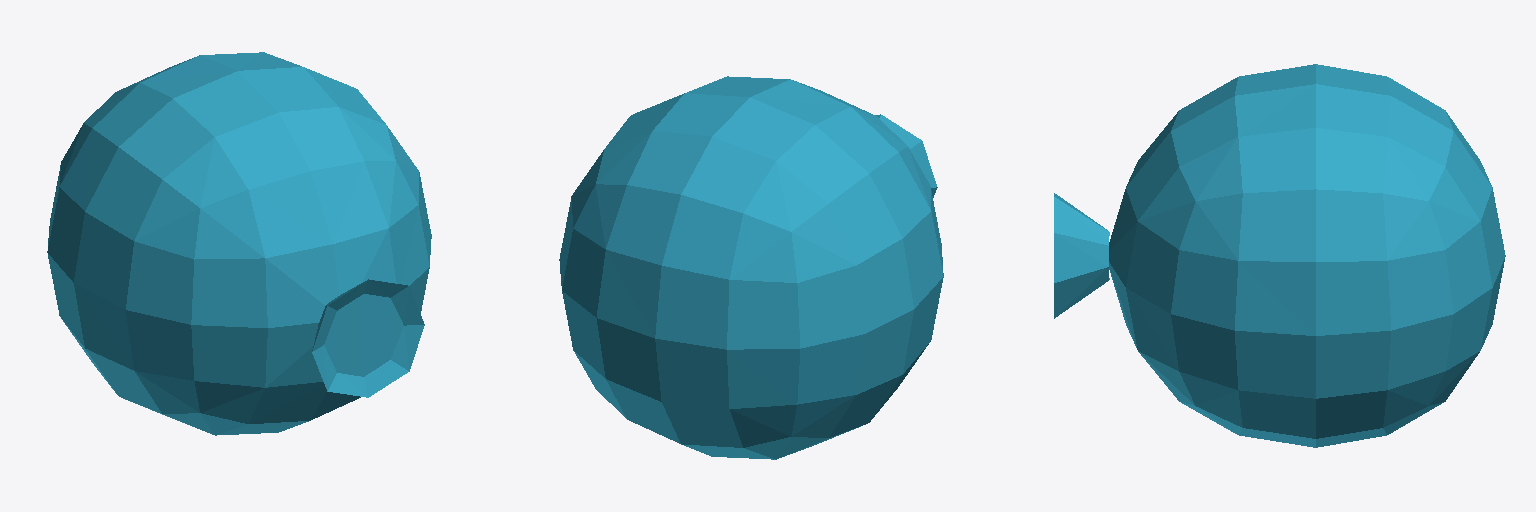
3 views of the same model, side by side, from view 1: azimuth 30°, elevation 25°; view 2: azimuth 150°, elevation 25°; view 3: azimuth 270°, elevation 25° (orthographic).
Visible parts, largest first — view 1: 立方体.001; view 2: 立方体.001; view 3: 立方体.001.
Boxes of the visible parts, <box> form: 立方体.001: <box>47,52,431,435</box>; 立方体.001: <box>559,76,943,459</box>; 立方体.001: <box>1054,64,1505,447</box>.
Size of the model in its own units: 1.68 by 1.68 by 2.
Materials: 1 (1 with a texture image).